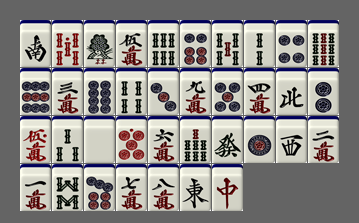0m: (20, 116, 51, 163)
0p: (116, 116, 147, 163)
0s: (52, 20, 83, 67)
1m: (20, 164, 51, 211)
1p: (244, 116, 275, 163)
1s: (84, 20, 115, 67)
1z: (180, 164, 211, 211)
2m: (308, 116, 339, 163)
2p: (308, 68, 339, 115)
2s: (244, 20, 275, 67)
2z: (20, 20, 51, 67)
3m: (52, 68, 83, 115)
3p: (148, 68, 179, 115)
3s: (52, 116, 83, 163)
3z: (276, 116, 307, 163)
4m: (244, 68, 275, 115)
4p: (276, 20, 307, 67)
4s: (116, 68, 147, 115)
4z: (276, 68, 307, 115)
5m: (116, 20, 147, 67)
5p: (212, 68, 243, 115)
5s: (212, 20, 243, 67)
5z: (84, 116, 115, 163)
6m: (148, 116, 179, 163)
6p: (180, 20, 211, 67)
6s: (148, 20, 179, 67)
6z: (212, 116, 243, 163)
7m: (116, 164, 147, 211)
7p: (84, 164, 115, 211)
7s: (180, 116, 211, 163)
7z: (212, 164, 243, 211)
8m: (148, 164, 179, 211)
8p: (84, 68, 115, 115)
8s: (52, 164, 83, 211)
9m: (180, 68, 211, 115)
9p: (20, 68, 51, 115)
9s: (308, 20, 339, 67)
